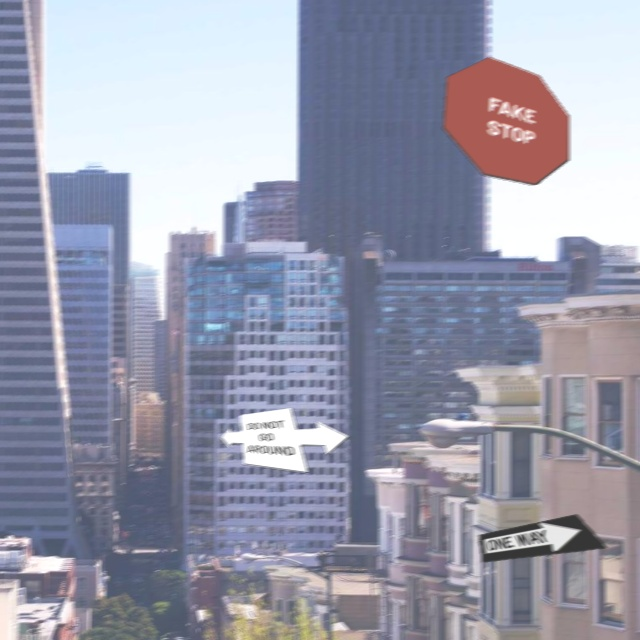DO_NOT_GO_AROUND: (219, 408, 348, 474)
FAKE_STOP: (441, 57, 568, 186)
ONE_WAY_ right: (477, 514, 606, 563)
